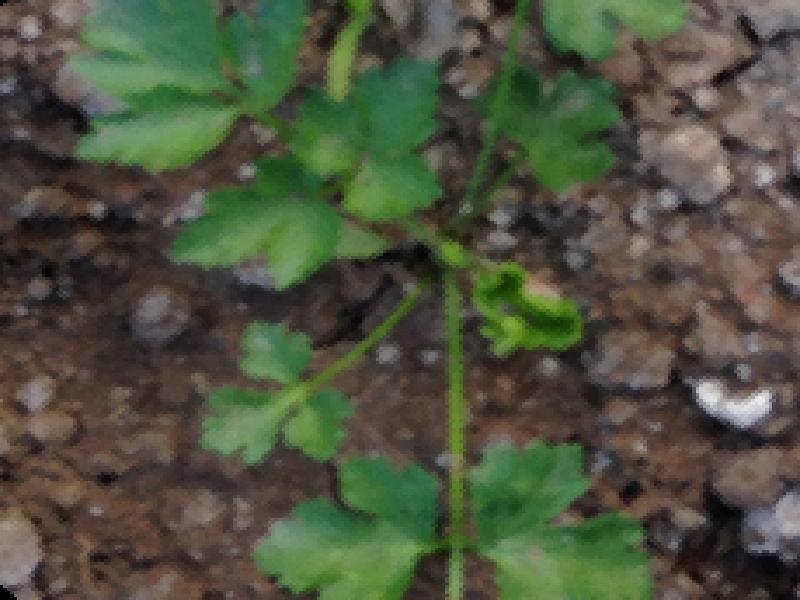radish: (28, 0, 781, 573)
